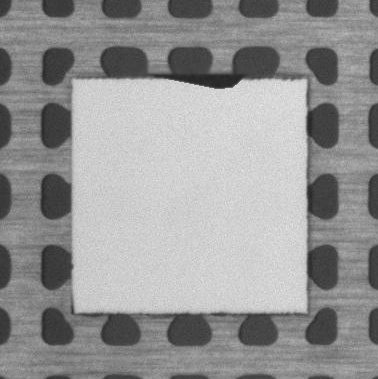DIE_BROKEN: (154, 72, 248, 88)
